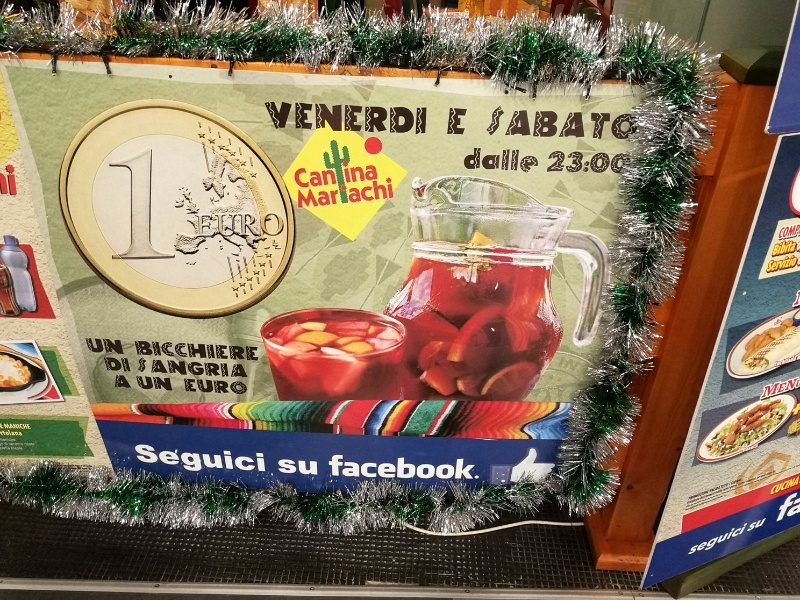text: (113, 146, 128, 263), (129, 146, 144, 263), (145, 146, 160, 263), (161, 146, 176, 263), (689, 459, 704, 512), (705, 459, 720, 512), (721, 459, 736, 512), (737, 459, 752, 512), (753, 459, 768, 512), (769, 459, 784, 512), (785, 459, 799, 512), (705, 523, 720, 562), (721, 523, 736, 562), (497, 108, 512, 146), (513, 108, 528, 146), (529, 108, 544, 146), (545, 108, 560, 146), (561, 108, 576, 146), (577, 108, 592, 146), (593, 108, 608, 146), (609, 108, 624, 146), (625, 108, 640, 146), (305, 176, 320, 211), (321, 176, 336, 211), (337, 176, 352, 211), (353, 176, 368, 211), (369, 176, 384, 211), (273, 103, 288, 137), (289, 103, 304, 137), (305, 103, 320, 137), (321, 103, 336, 137), (337, 103, 352, 137), (353, 103, 368, 137), (369, 103, 384, 137), (385, 103, 400, 137), (401, 103, 416, 137), (786, 492, 800, 527), (449, 107, 464, 139), (305, 160, 320, 192), (321, 160, 336, 192), (337, 160, 352, 192), (353, 160, 368, 192), (145, 444, 160, 476), (161, 444, 176, 476), (177, 444, 192, 476), (193, 444, 208, 476), (209, 444, 224, 476), (225, 444, 240, 476), (241, 444, 256, 476), (108, 146, 112, 263), (737, 523, 749, 562), (465, 454, 481, 481), (3, 164, 16, 197), (465, 147, 480, 175), (481, 147, 496, 175), (497, 147, 512, 175), (513, 147, 528, 175), (385, 176, 397, 211), (209, 211, 224, 239), (225, 211, 240, 239), (241, 211, 256, 239), (257, 211, 272, 239), (417, 103, 429, 137), (545, 151, 560, 178), (561, 151, 576, 178), (577, 151, 592, 178), (593, 151, 608, 178), (609, 151, 624, 178), (337, 454, 352, 481), (353, 454, 368, 481), (369, 454, 384, 481), (385, 454, 400, 481), (401, 454, 416, 481), (417, 454, 432, 481), (433, 454, 448, 481), (449, 454, 464, 481), (194, 211, 208, 239), (273, 211, 287, 239), (694, 523, 704, 562), (257, 444, 269, 476), (769, 376, 784, 401), (785, 376, 800, 401), (369, 160, 380, 192), (262, 103, 272, 137), (1, 172, 16, 194), (294, 160, 304, 192), (134, 444, 144, 476), (145, 341, 160, 362), (161, 341, 176, 362), (177, 341, 192, 362), (193, 341, 208, 362), (209, 341, 224, 362), (225, 341, 240, 362), (241, 341, 256, 362), (529, 147, 540, 175), (145, 358, 160, 378), (161, 358, 176, 378), (177, 358, 192, 378), (193, 358, 208, 378), (209, 358, 224, 378), (225, 358, 240, 378), (769, 255, 784, 275), (785, 476, 799, 497), (785, 255, 799, 275), (97, 338, 112, 356), (289, 459, 304, 477), (193, 379, 208, 396), (209, 379, 224, 396), (225, 379, 240, 396), (297, 176, 304, 211), (327, 454, 336, 481), (753, 518, 768, 534), (177, 146, 179, 263), (305, 459, 318, 477), (773, 476, 784, 497), (113, 358, 128, 373), (145, 377, 160, 392), (785, 225, 800, 240), (785, 240, 798, 257), (625, 151, 633, 178), (84, 338, 96, 356), (113, 338, 125, 356), (134, 341, 144, 362), (277, 459, 288, 477), (785, 354, 799, 368), (161, 377, 174, 392), (116, 375, 128, 389), (241, 358, 249, 378), (775, 240, 784, 257), (492, 108, 496, 146), (137, 358, 144, 378), (774, 354, 784, 368), (184, 379, 192, 396), (241, 379, 249, 396), (103, 358, 112, 373), (465, 107, 469, 139), (763, 376, 768, 401), (136, 377, 144, 392), (17, 424, 33, 430), (1, 424, 16, 430), (1, 431, 16, 437), (3, 424, 16, 430), (257, 341, 260, 362), (1, 447, 16, 451), (1, 443, 16, 447), (462, 147, 464, 175), (129, 375, 133, 389), (797, 291, 800, 307), (129, 358, 132, 373), (1, 439, 16, 442), (5, 443, 16, 447), (17, 431, 24, 437), (17, 442, 25, 447), (9, 442, 16, 447), (17, 164, 18, 197), (782, 225, 784, 240), (25, 443, 32, 447), (17, 447, 24, 451), (10, 447, 16, 451), (751, 518, 752, 534), (33, 443, 35, 447)
